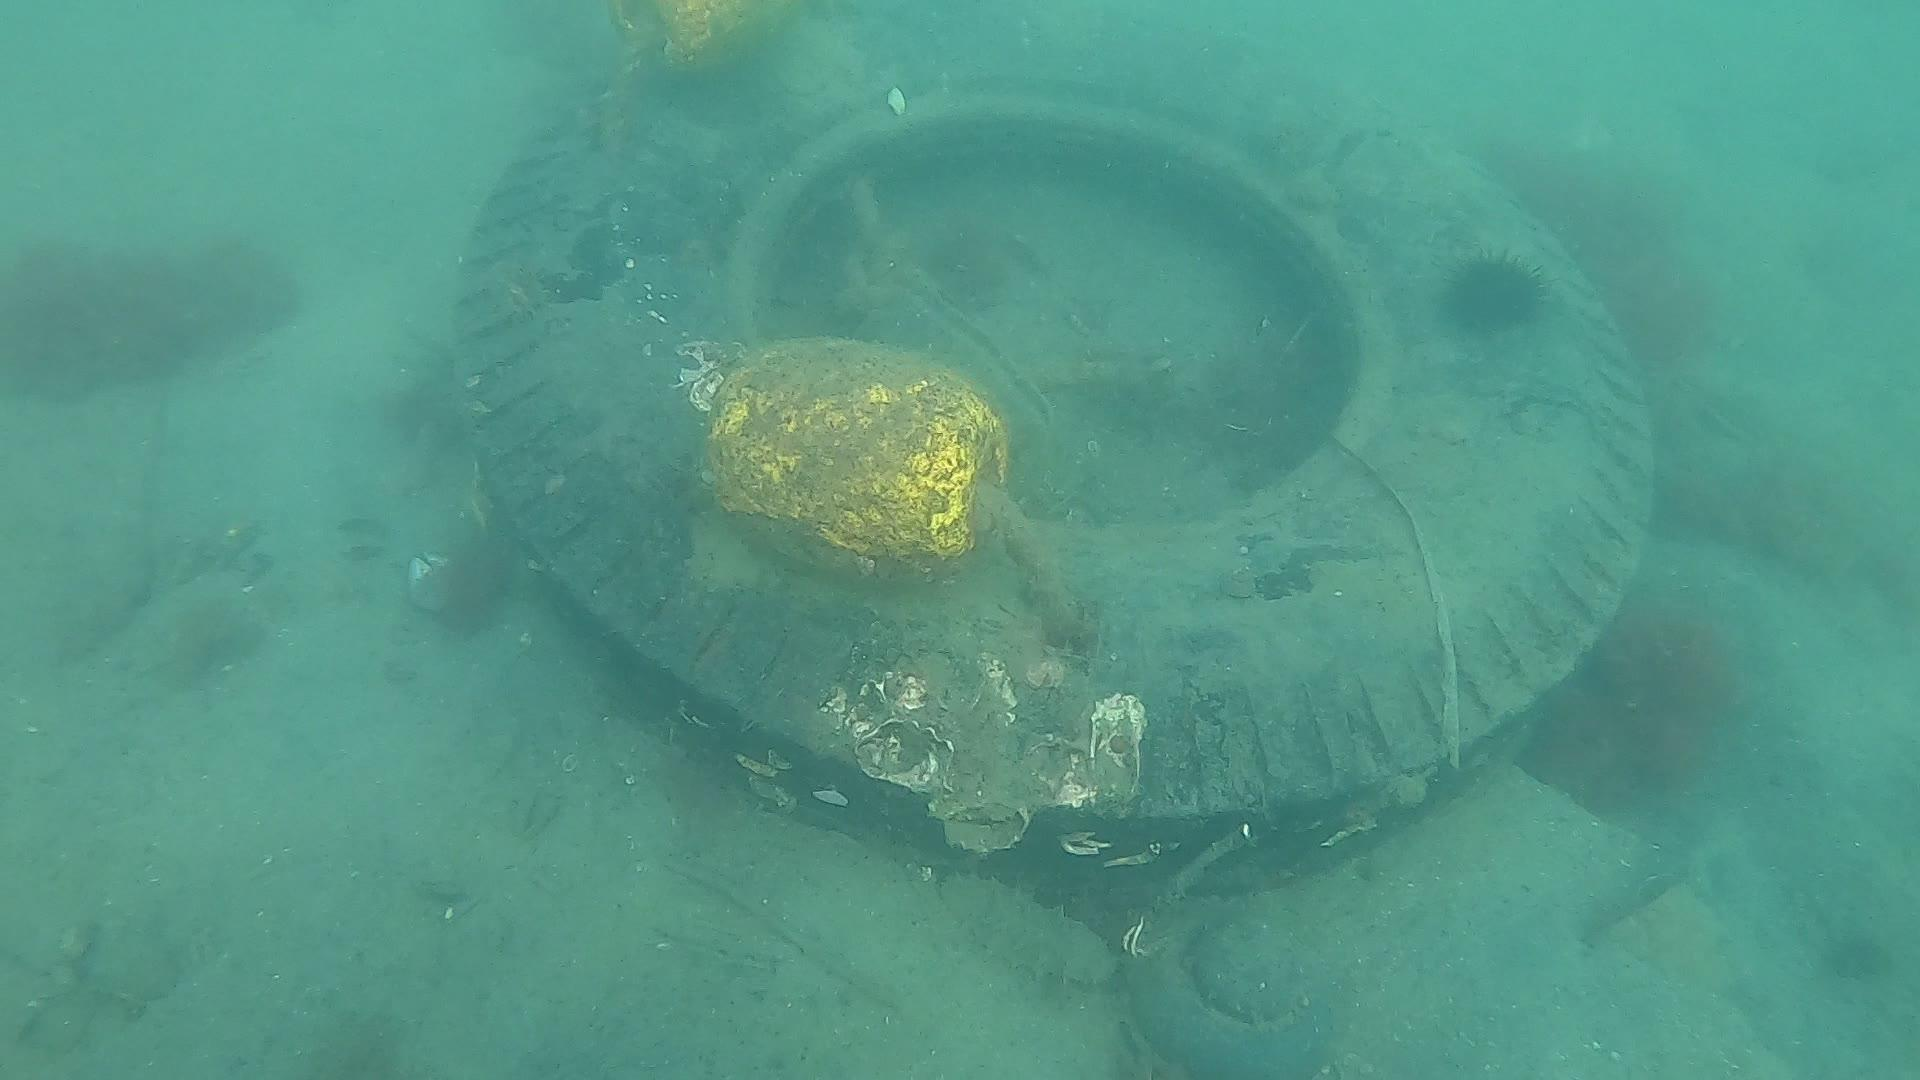tire: (455, 0, 1650, 895)
